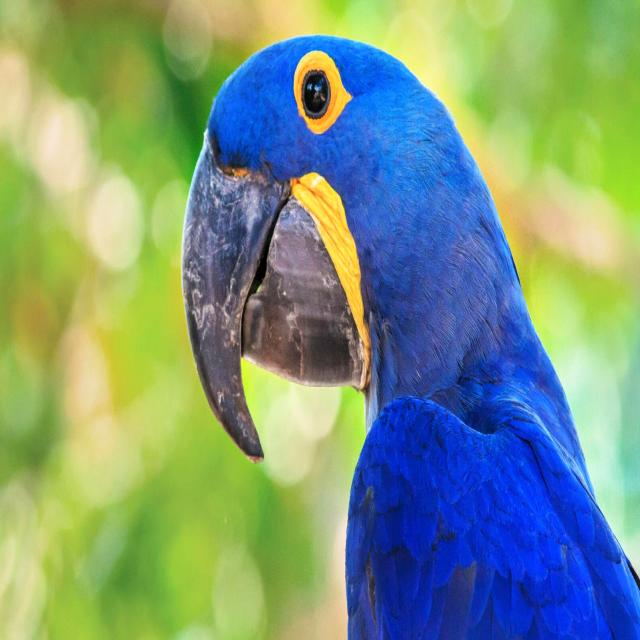parrot: (183, 36, 640, 639)
